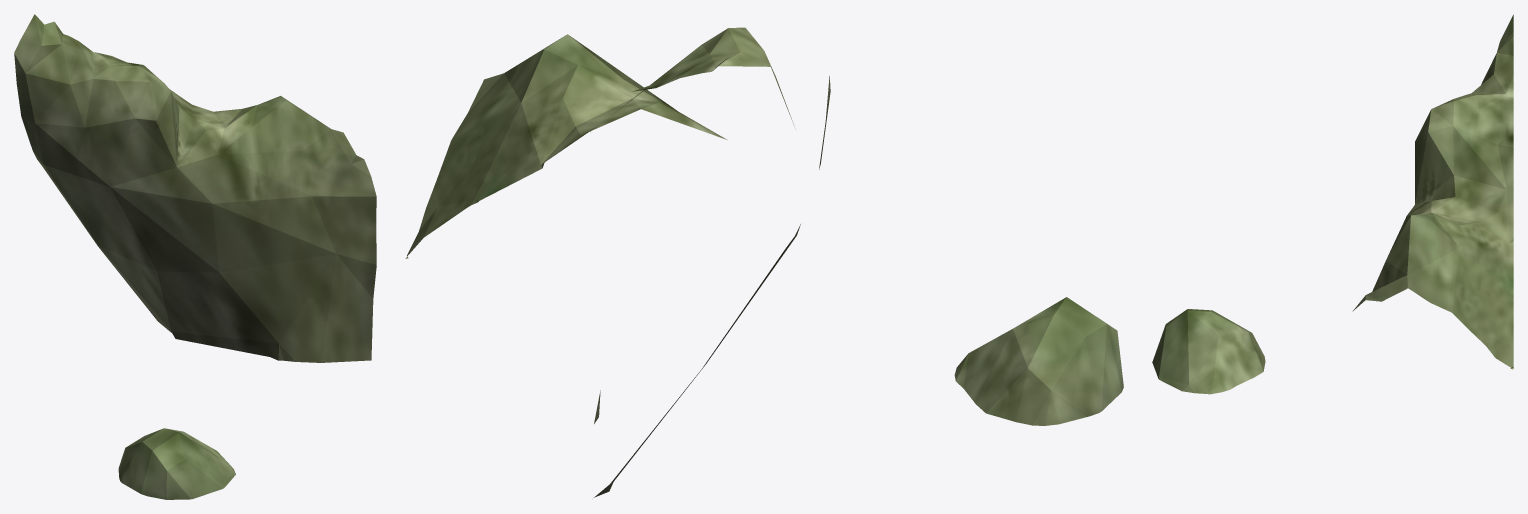
3 renders of one model, left to right at view 1: azimuth 30°, elevation 25°; view 2: azimuth 150°, elevation 25°; view 3: azimuth 270°, elevation 25°, orthographic. The views are drawn at different scales.
Bounding box in the file's own units: 1.29 × 1.38 × 1.27.
Materials: 1 (1 with a texture image).
